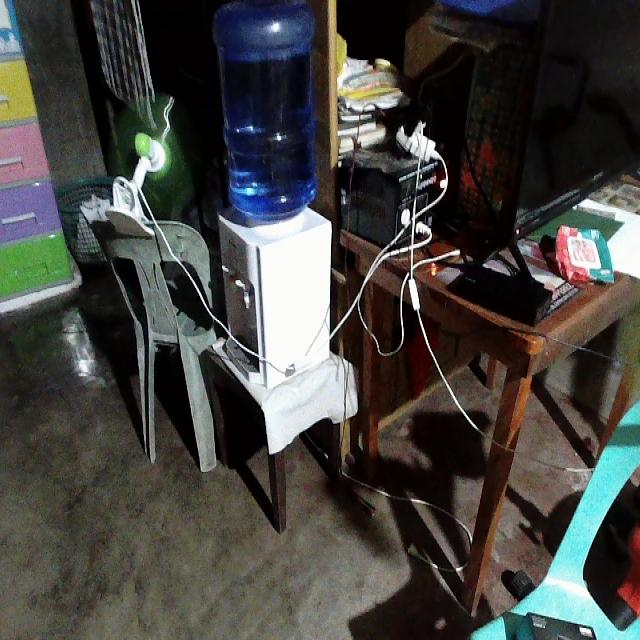-: (378, 91, 453, 165)
